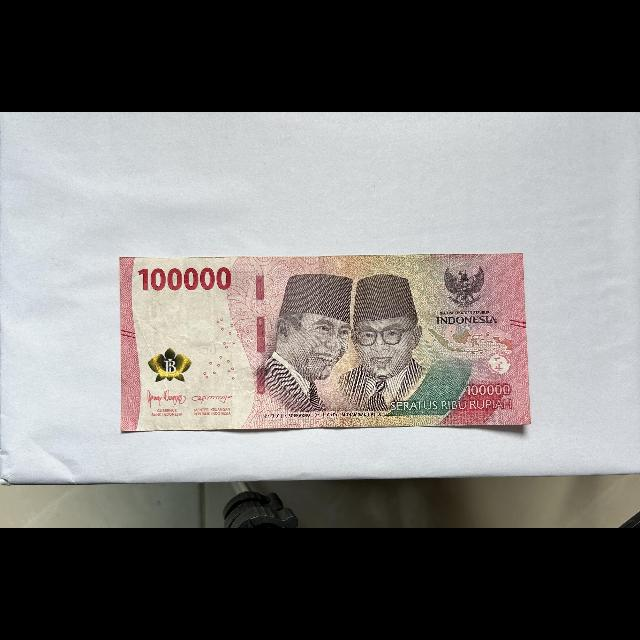Asli-100k: (118, 253, 533, 435)
Tinta-Asli-100k: (147, 348, 192, 383)
